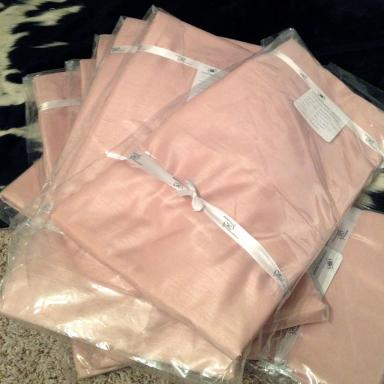plasticbag: (0, 4, 383, 383)
